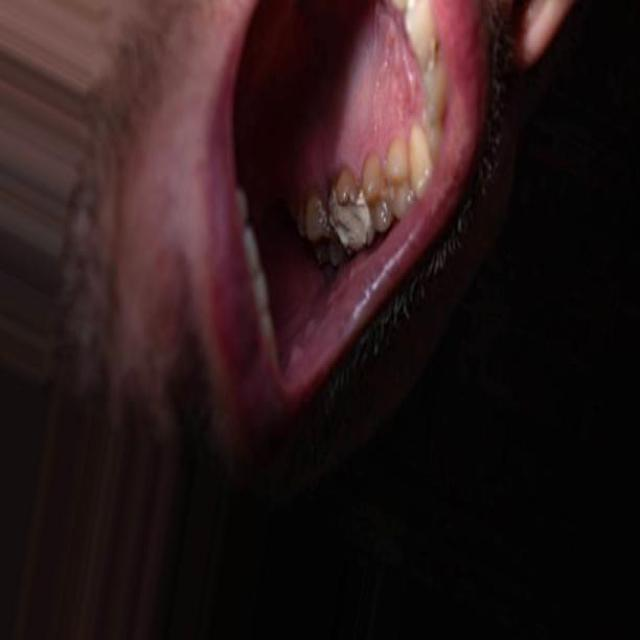caries: (328, 194, 374, 253)
